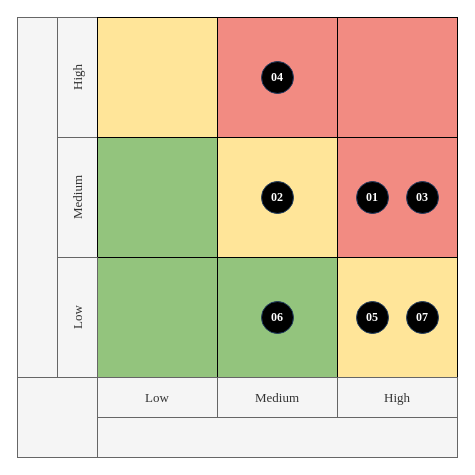
Some shapes in this 475 by 475 pixel diagram are drawn without their labels. Here are the shapes that lost their labels. From the top down, the centre of each, then its label:
At point 37,197: "Probability".
At point 277,437: "Impact".
